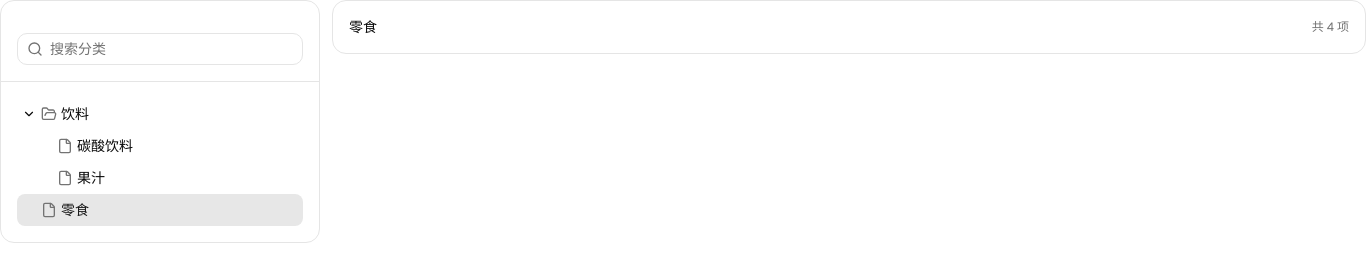
TreeCrudPage › expands a collapsed group via ArrowRight on the treeitem
The width and height of the screenshot is (1366, 260).
# collapse the auto-expanded 饮料 group first
Click the button named "收起 饮料" at (29, 114), box [21,106,37,122]
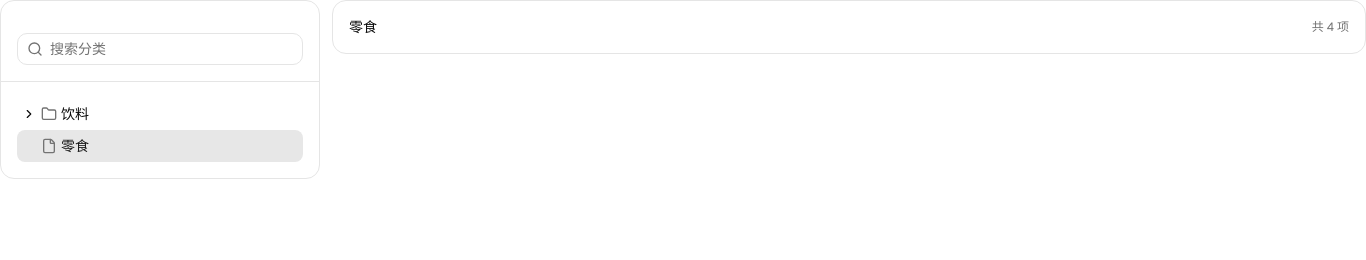
Check: the text "碳酸饮料" is gone
# ArrowRight on the collapsed group treeitem expands it
Press ArrowRight in the list item "饮料", box [21,105,89,123]
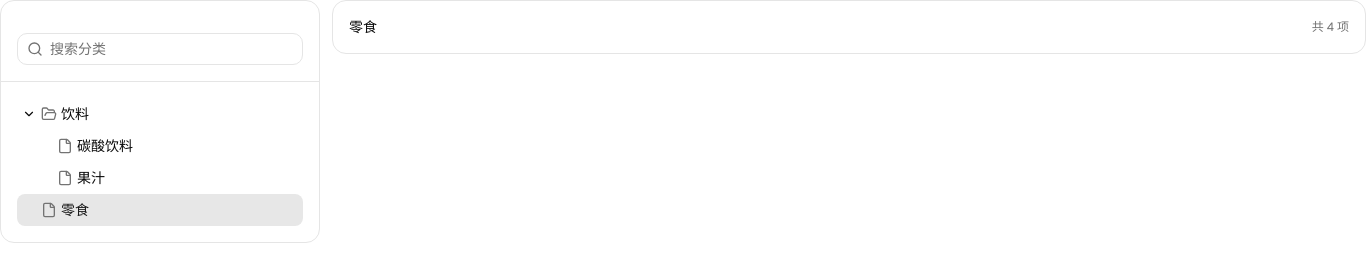
Check: the text "碳酸饮料" is shown, box [77,137,133,155]
